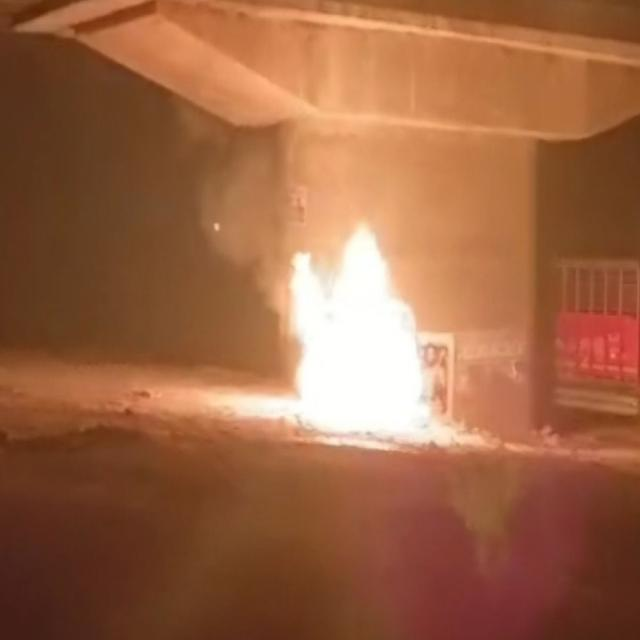fire: (286, 221, 429, 435)
